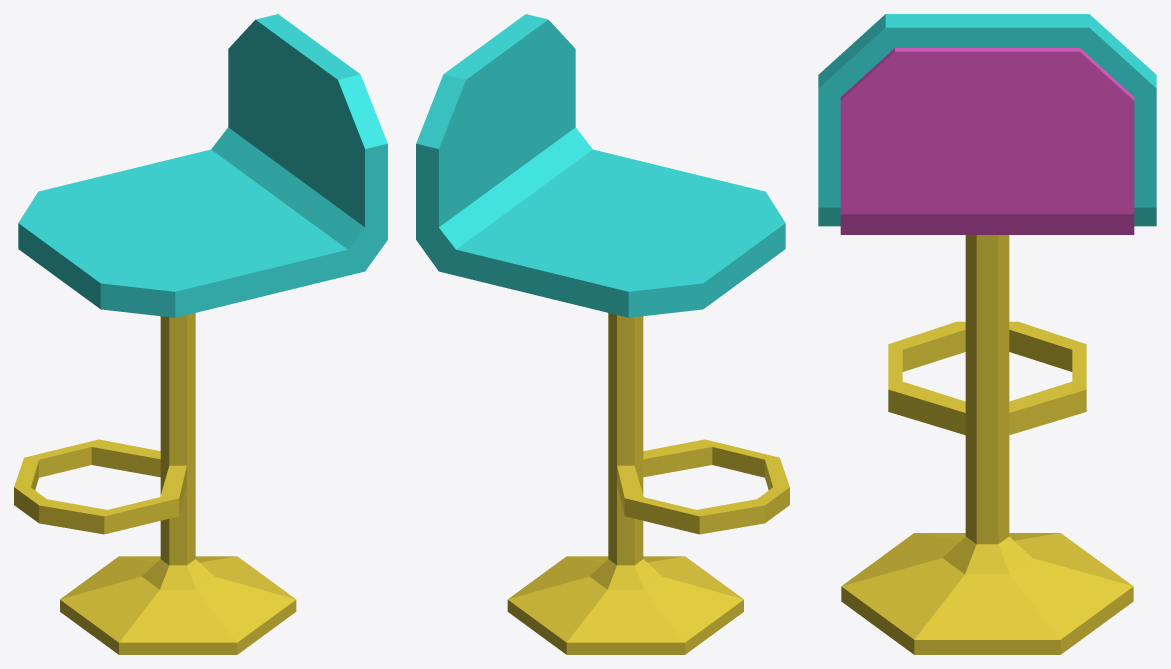
The model's file is Chair_09.fbx.
3 renders of one model, left to right at view 1: azimuth 30°, elevation 25°; view 2: azimuth 150°, elevation 25°; view 3: azimuth 270°, elevation 25°, orthographic. The views are drawn at different scales.
Parts seen in each view (by area): view 1: Chair_09; view 2: Chair_09; view 3: Chair_09.
Boxes of the visible parts, x1=… form: Chair_09: x1=14, y1=14, x2=387, y2=654; Chair_09: x1=416, y1=14, x2=789, y2=654; Chair_09: x1=818, y1=14, x2=1156, y2=654.
Bounding box in the file's own units: 46.38 × 79 × 36.78.
